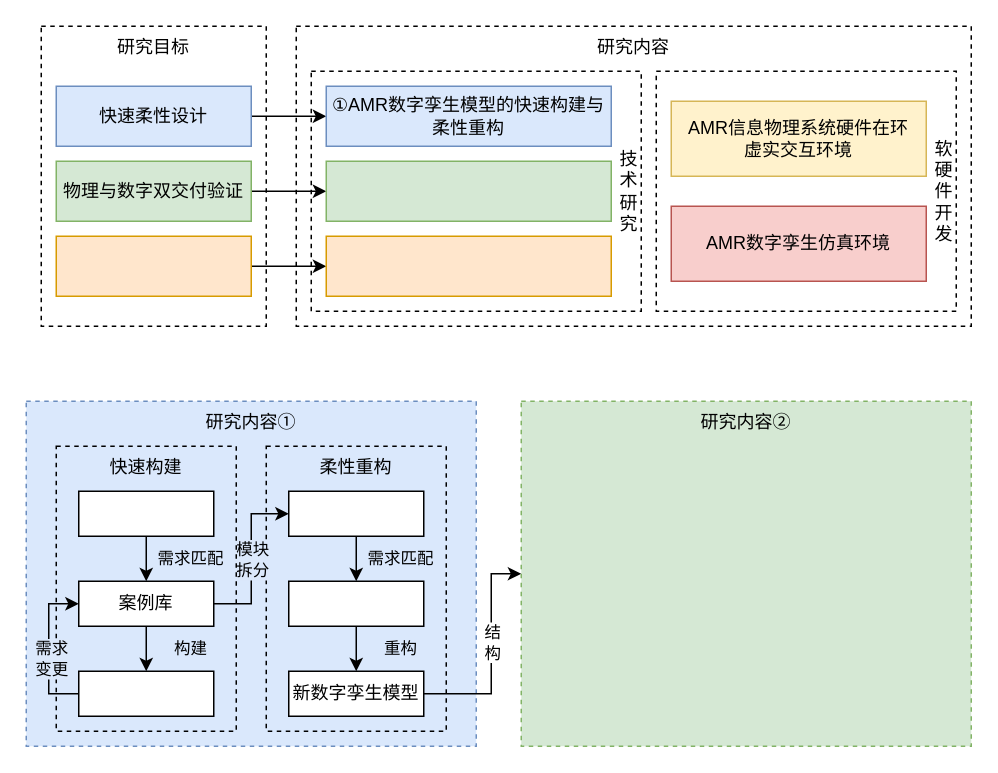
Image size: 998x773. Some labels were removed from this diagram. Here are the shapes that lost their labels. From the top down, the centre of each, then its label:
At pixel 468 190: "②AMR数字模型与物理模型之间的 互通信和互操作".
At pixel 153 265: "虚拟仿真实训与管控".
At pixel 468 265: "③AMR多任务场景服役状态可视化 关键性能动态实时仿真分析".
At pixel 145 513: "需求".
At pixel 355 513: "目标模块".
At pixel 355 603: "零部件库".
At pixel 145 693: "数字孪生模型".
